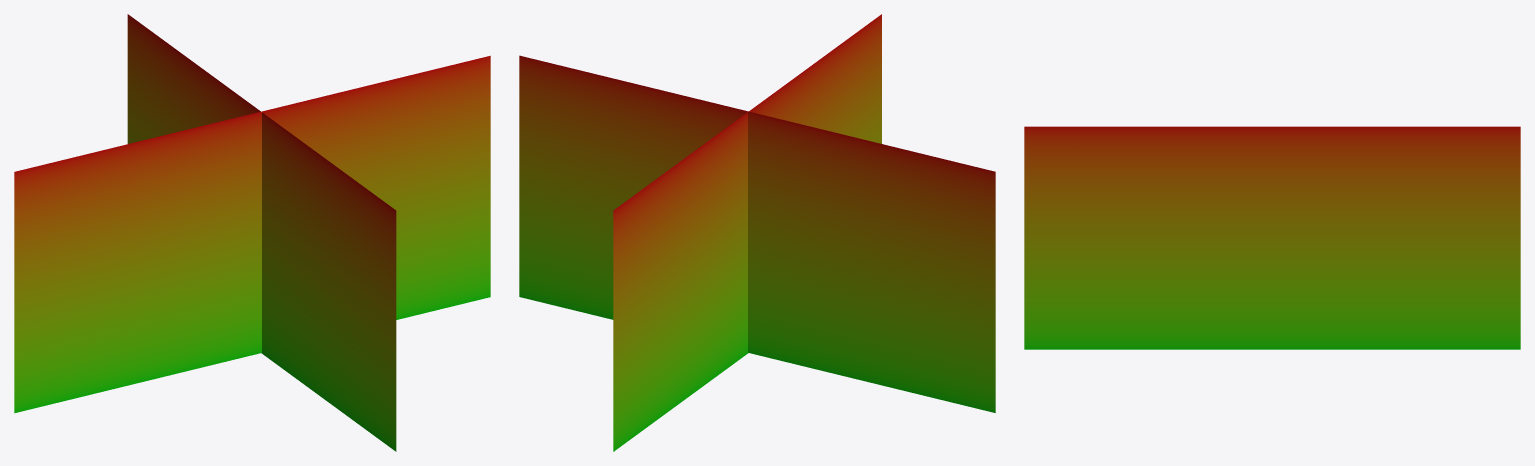
The model's file is Boston Fern_LOD4_Var2_rhDrC.fbx.
The picture shows the model from 3 angles, left to right: view 1: azimuth 30°, elevation 25°; view 2: azimuth 150°, elevation 25°; view 3: azimuth 270°, elevation 25°; orthographic projection. The views are drawn at different scales.
Parts seen in each view (by area): view 1: _9a4b_Var2_LOD4; view 2: _9a4b_Var2_LOD4; view 3: _9a4b_Var2_LOD4.
Part boxes in pixels (left/top/right/bottom): _9a4b_Var2_LOD4: left=14, top=14, right=490, bottom=451; _9a4b_Var2_LOD4: left=519, top=14, right=995, bottom=451; _9a4b_Var2_LOD4: left=1024, top=126, right=1520, bottom=349.
Bounding box in the file's own units: 14.62 × 7.11 × 14.27.
